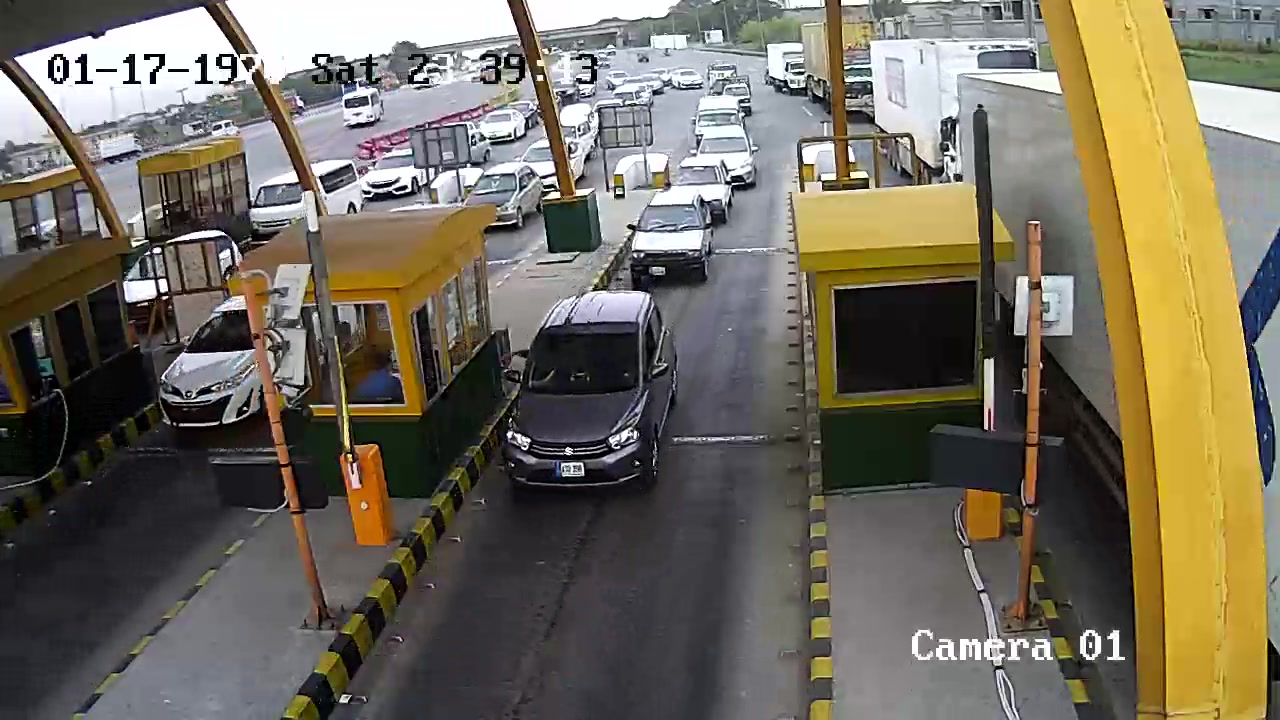F1: (496, 289, 687, 508), (630, 185, 713, 295)
